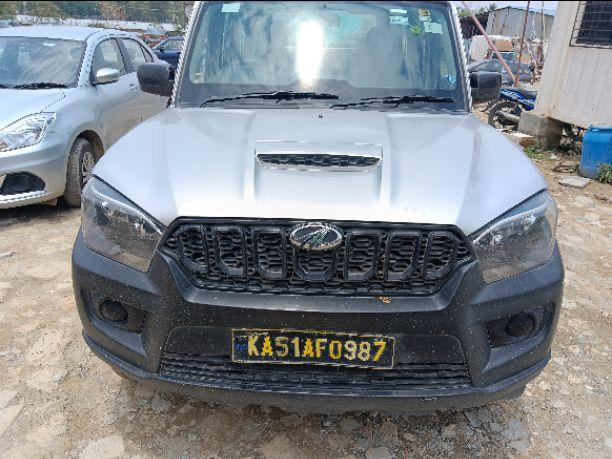license_plate: (229, 327, 396, 369)
